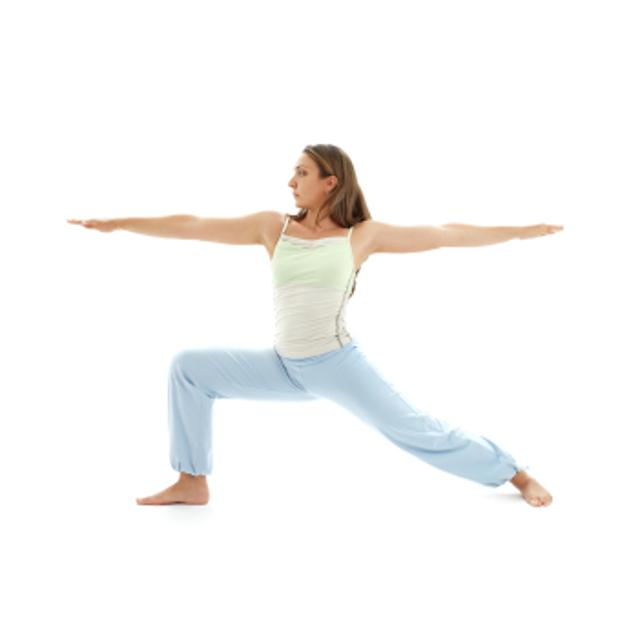Warrior_II: (66, 140, 566, 514)
